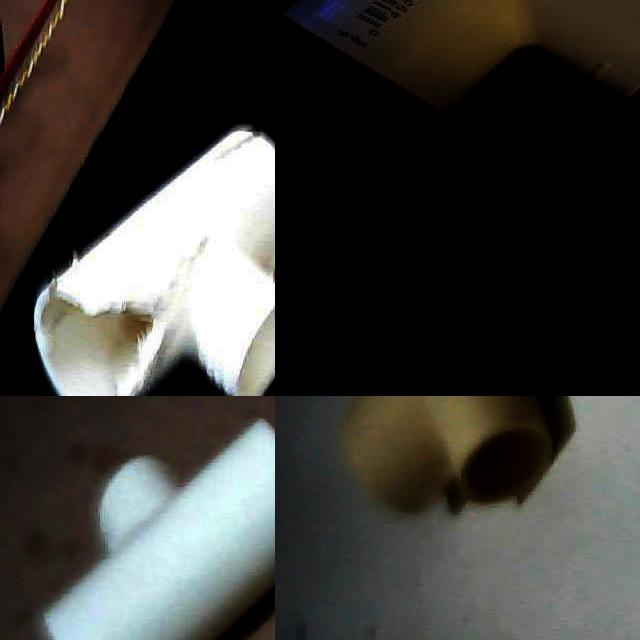Defective: (48, 280, 162, 396)
T Joint: (32, 123, 275, 396), (36, 419, 275, 640), (342, 396, 555, 514)
